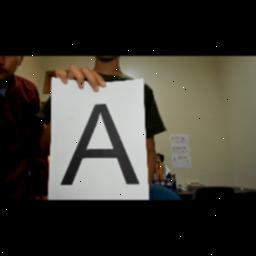a: (56, 100, 142, 188)
